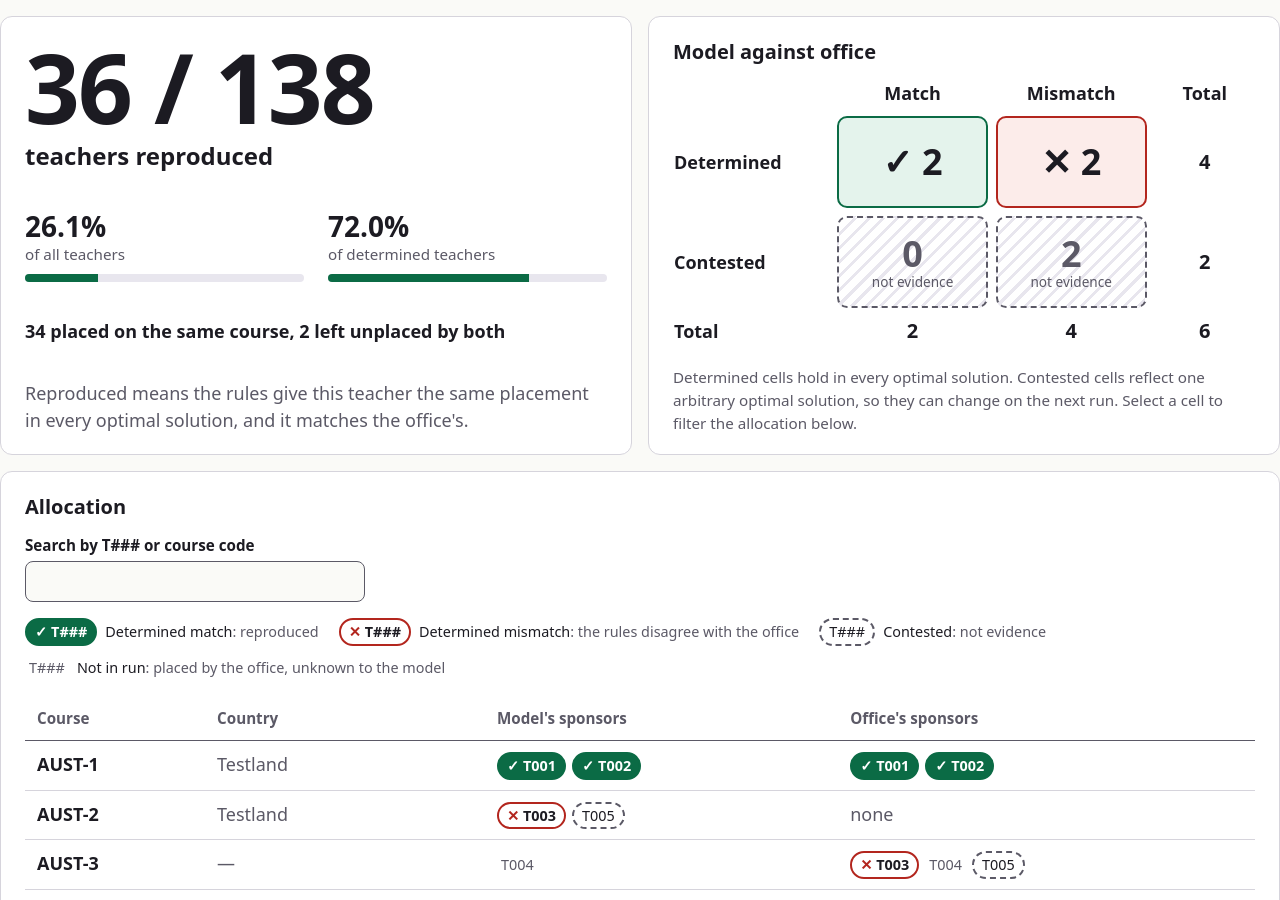
Scenario: Results search › an empty matrix cell also offers the clear action
Click the button with aria-label "Contested match" at (913, 262), box [837,216,988,308]
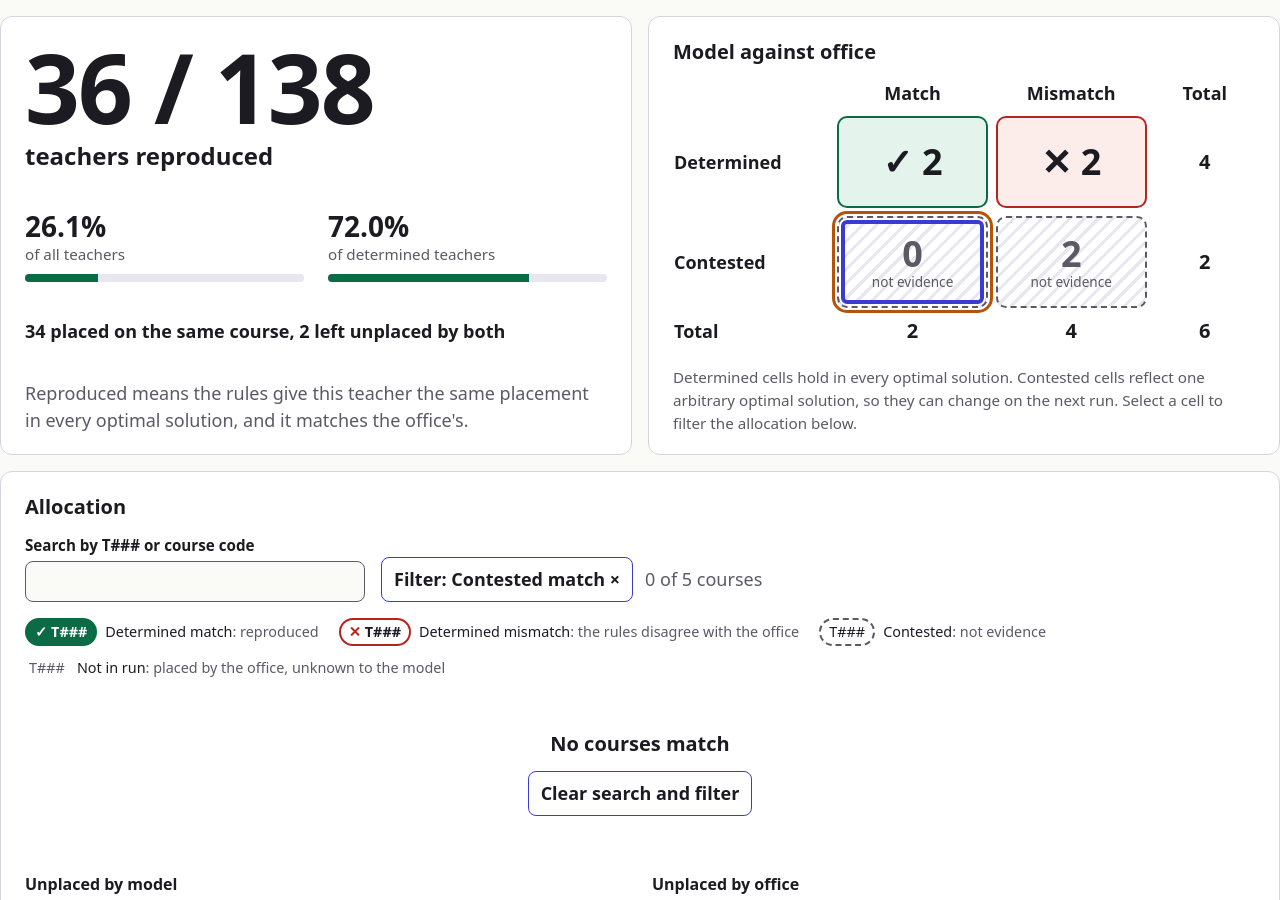
Check: the text "No courses match" is shown, box [550,730,730,757]
